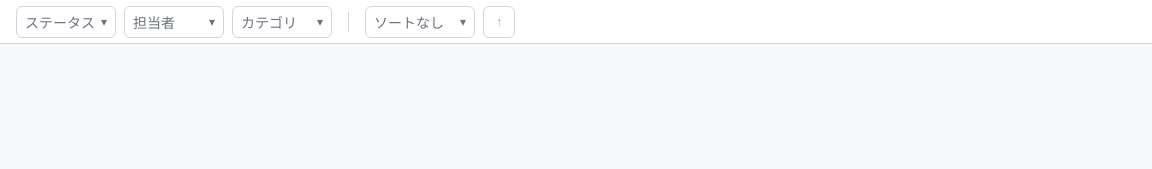
Test: FilterBar › dropdown options › extracts assignee options from board data
Click the button with aria-label "担当者フィルタ".
click(174, 22)  # box left=124, top=6, right=224, bottom=38
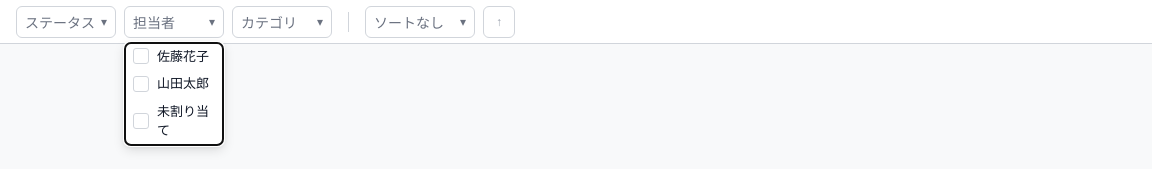
Expected: the text "山田太郎" is shown, left=157, top=74, right=209, bottom=94
Expected: the text "佐藤花子" is shown, left=157, top=46, right=209, bottom=66
Expected: the text "未割り当て" is shown, left=157, top=102, right=215, bottom=140
